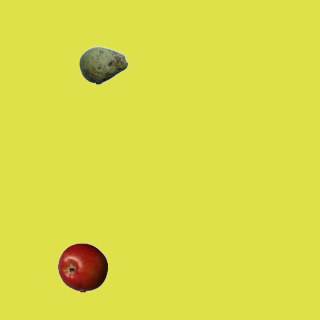Apple Braeburn: (57, 242, 107, 292)
Pear Stone: (78, 40, 128, 90)
